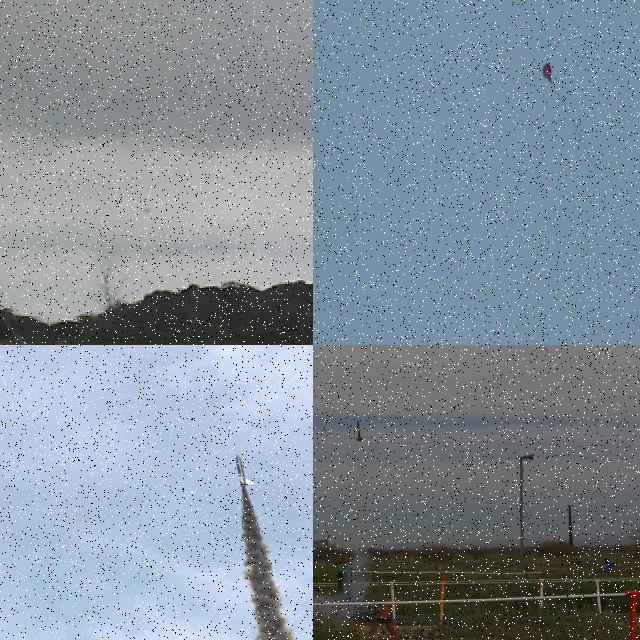Rocket: (233, 454, 255, 490), (344, 569, 361, 603), (335, 564, 348, 599), (356, 420, 363, 442)
